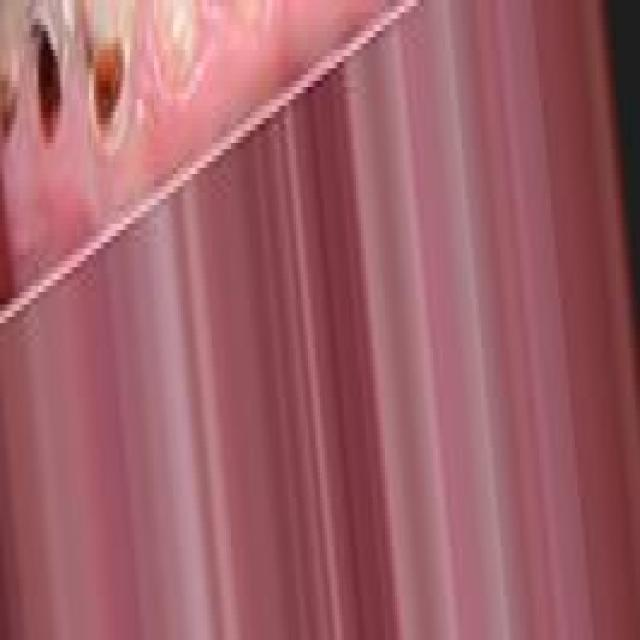caries: (78, 14, 141, 174), (22, 0, 80, 161)
